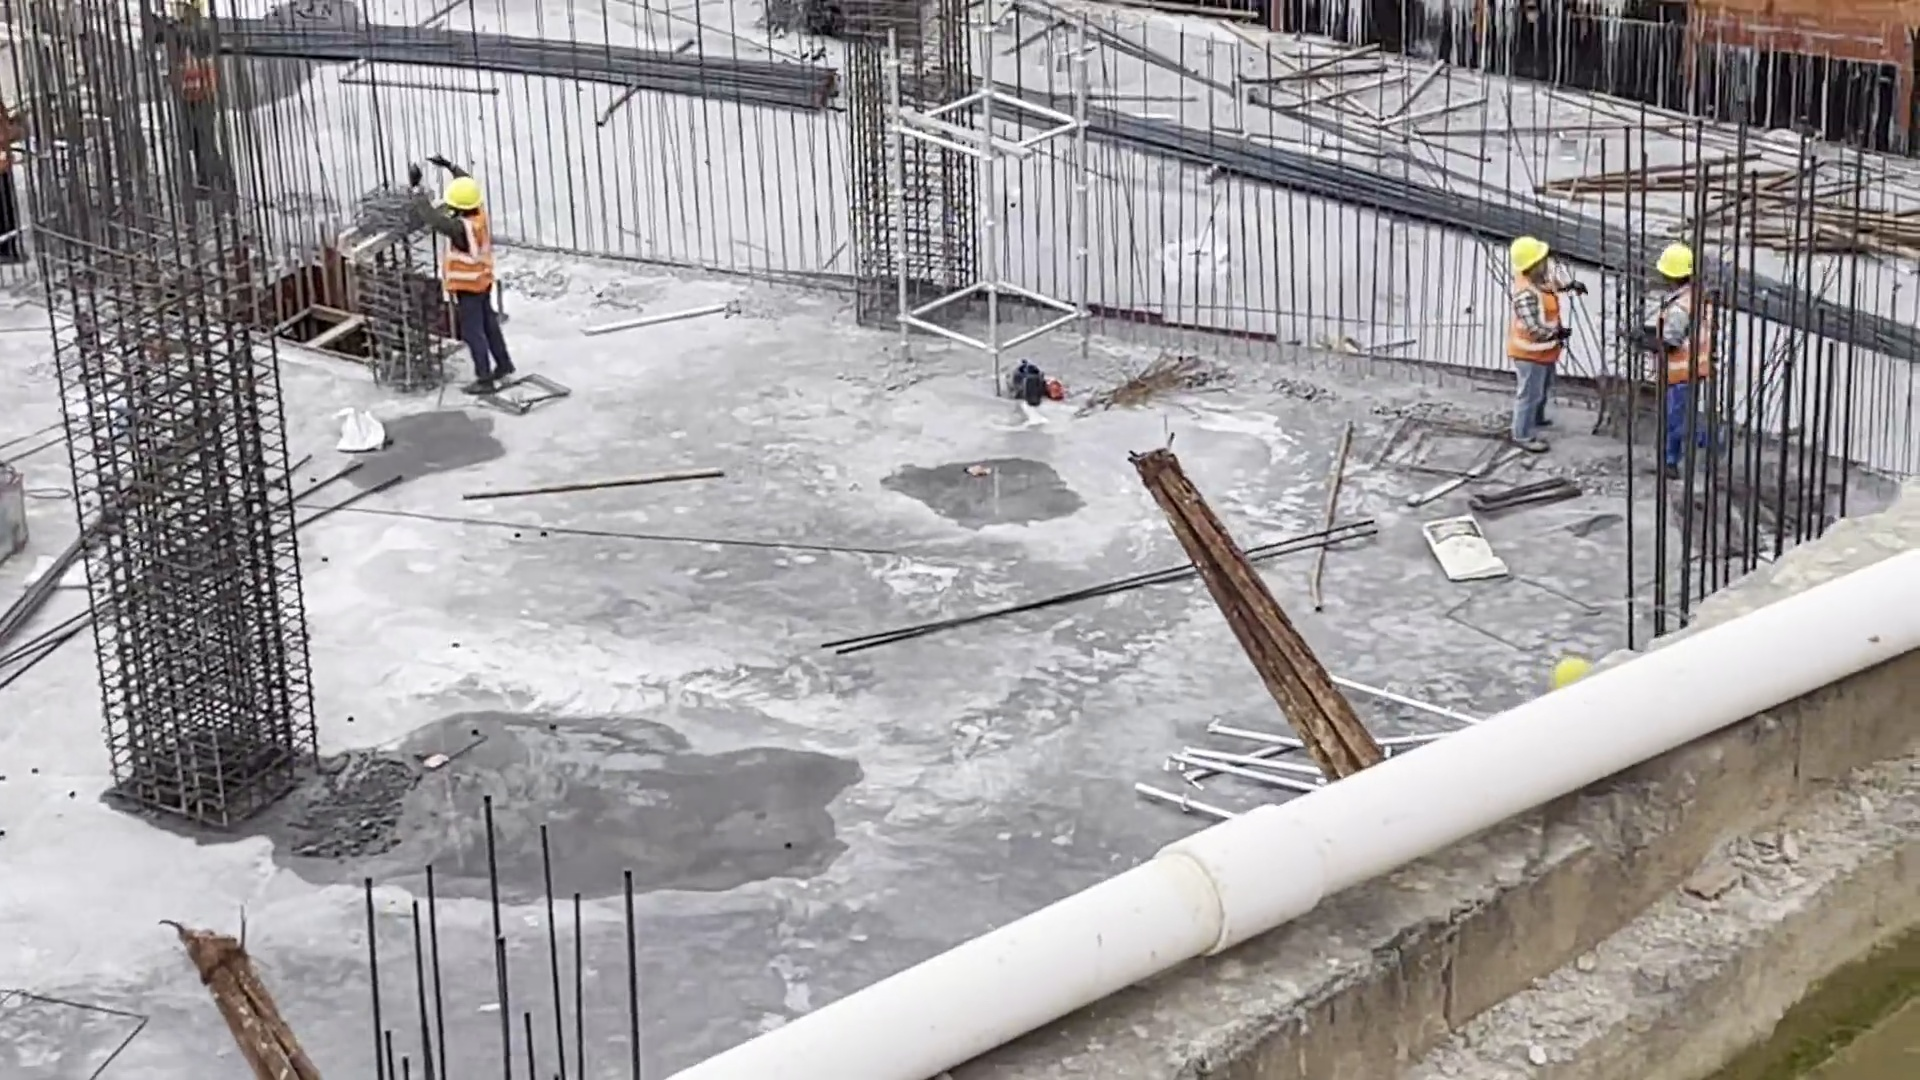helmet: (1645, 242, 1706, 281), (438, 173, 485, 212), (1549, 653, 1597, 689), (1509, 237, 1560, 269)
person: (403, 152, 523, 398), (151, 2, 251, 215), (1643, 244, 1728, 481), (1492, 234, 1583, 452)
rebar: (268, 17, 819, 113)
vest: (1658, 295, 1724, 392), (432, 217, 499, 299), (1505, 282, 1567, 363)
